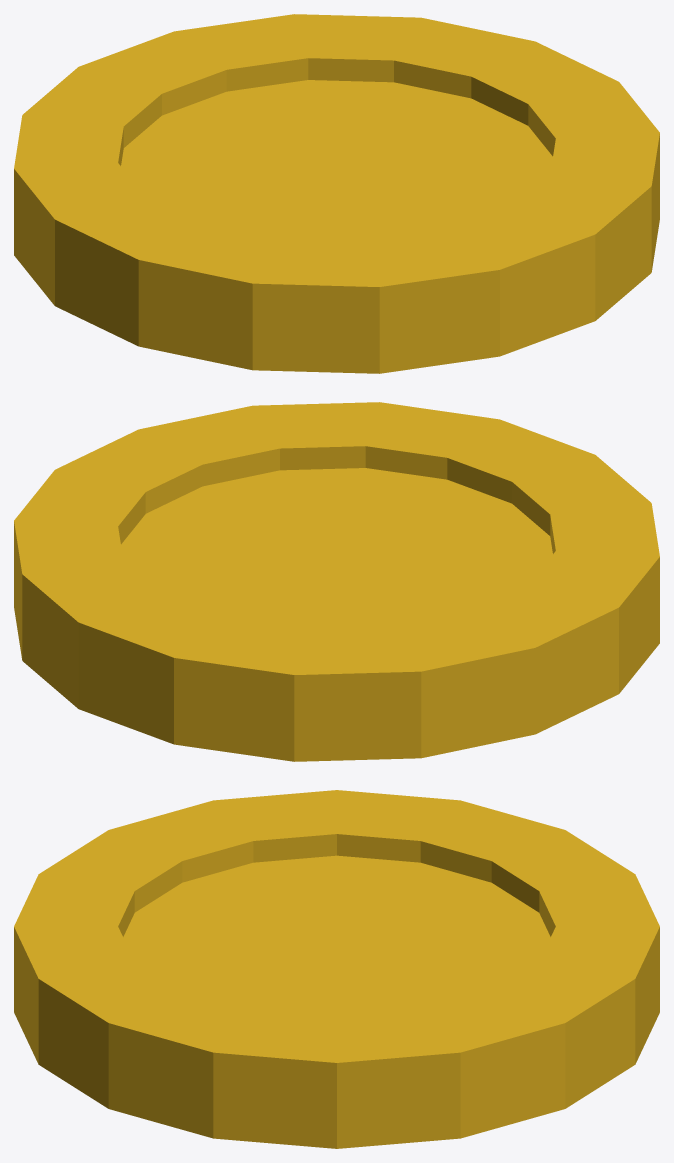
File: Coin.fbx
The picture shows the model from 3 angles, top to bottom: view 1: azimuth 30°, elevation 25°; view 2: azimuth 150°, elevation 25°; view 3: azimuth 270°, elevation 25°; orthographic projection.
Parts seen in each view (by area): view 1: bitcoin; view 2: bitcoin; view 3: bitcoin.
Part boxes in pixels (left/top/right/bottom): bitcoin: left=14, top=14, right=659, bottom=373; bitcoin: left=14, top=402, right=659, bottom=761; bitcoin: left=14, top=790, right=659, bottom=1148.
Size of the model in its own units: 49.35 by 7.24 by 49.35.
